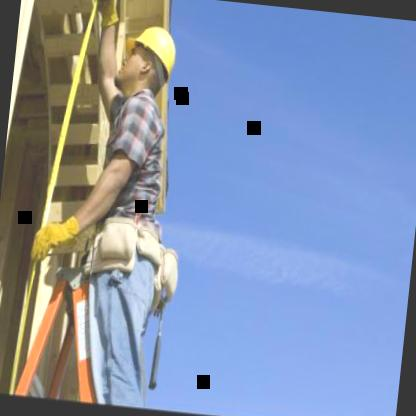helmet: (110, 19, 183, 107)
